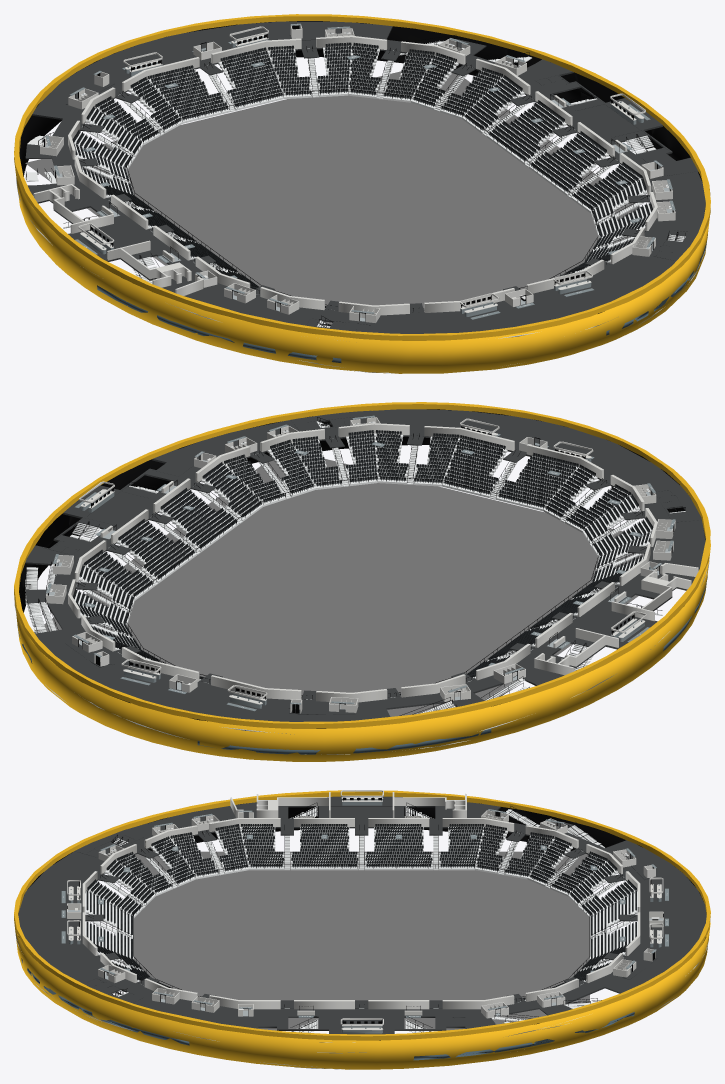
Rendered from felso.glb.
3 views of the same model, one above another, from view 1: azimuth 30°, elevation 25°; view 2: azimuth 150°, elevation 25°; view 3: azimuth 270°, elevation 25° (orthographic). The views are drawn at different scales.
Parts seen in each view (by area): view 1: object 4, object 3, object 54, object 2, object 1, object 45, object 50, Szektor_307_szekek, Szektor_308_szekek, object 46, Szektor_304_szekek, Szektor_306_szekek (+23 smaller); view 2: object 4, object 3, object 54, object 2, object 1, object 45, object 50, Szektor_318_szekek, Szektor_317_szekek, object 46, Szektor_301_szekek, Szektor_319_szekek (+22 smaller); view 3: object 4, object 3, object 54, object 2, object 1, object 45, object 50, Szektor_314_szekek, Szektor_311_szekek, Szektor_312_szekek, Szektor_313_szekek, object 46 (+23 smaller).
Boxes of the visible parts, bbox=[...] form: object 4: bbox=[25, 71, 682, 327]; object 3: bbox=[25, 21, 705, 333]; object 54: bbox=[14, 157, 710, 373]; object 2: bbox=[33, 26, 657, 315]; object 1: bbox=[14, 14, 710, 340]; object 45: bbox=[19, 21, 702, 327]; object 50: bbox=[40, 25, 675, 322]; Szektor_307_szekek: bbox=[220, 45, 311, 107]; Szektor_308_szekek: bbox=[130, 65, 228, 130]; object 46: bbox=[82, 48, 649, 310]; Szektor_304_szekek: bbox=[440, 67, 522, 130]; Szektor_306_szekek: bbox=[317, 42, 380, 95]; object 4: bbox=[34, 459, 644, 716]; object 3: bbox=[25, 409, 705, 721]; object 54: bbox=[16, 540, 710, 761]; object 2: bbox=[68, 418, 698, 704]; object 1: bbox=[14, 402, 710, 728]; object 45: bbox=[19, 409, 685, 728]; object 50: bbox=[46, 417, 675, 713]; Szektor_318_szekek: bbox=[414, 433, 505, 494]; Szektor_317_szekek: bbox=[499, 452, 595, 517]; object 46: bbox=[76, 445, 643, 699]; Szektor_301_szekek: bbox=[202, 454, 284, 517]; Szektor_319_szekek: bbox=[346, 430, 408, 482]; object 4: bbox=[133, 851, 589, 1030]; object 3: bbox=[18, 796, 706, 1034]; object 54: bbox=[14, 919, 710, 1069]; object 2: bbox=[67, 790, 663, 1030]; object 1: bbox=[14, 790, 710, 1040]; object 45: bbox=[18, 797, 706, 1040]; object 50: bbox=[67, 800, 663, 1026]; Szektor_314_szekek: bbox=[215, 824, 284, 871]; Szektor_311_szekek: bbox=[439, 824, 506, 871]; Szektor_312_szekek: bbox=[365, 824, 432, 867]; Szektor_313_szekek: bbox=[291, 824, 358, 867]; object 46: bbox=[90, 832, 632, 1008].
Bounding box in the file's own units: 138 × 10.67 × 165.
